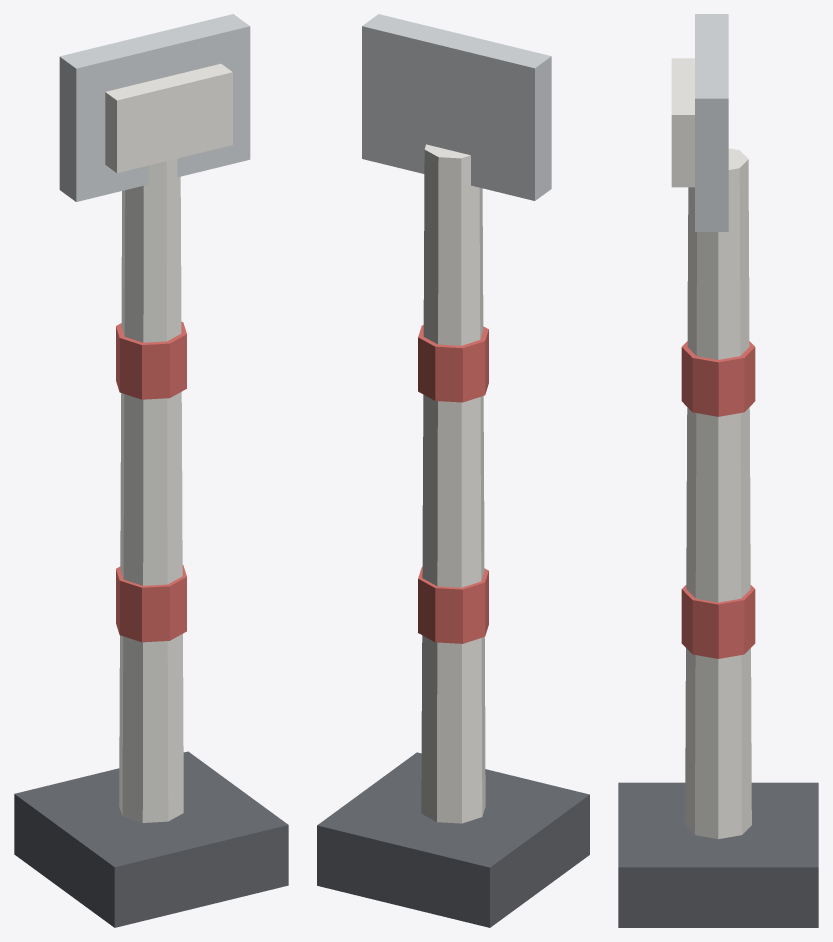
Rendered from hot-air-balloon-festival-launch-pitch-marker-post-78a5c157__38506.glb.
3 renders of one model, left to right at view 1: azimuth 30°, elevation 25°; view 2: azimuth 150°, elevation 25°; view 3: azimuth 270°, elevation 25°, orthographic.
Parts seen in each view (by area): view 1: launch-pitch-marker-post-canvasB, launch-pitch-marker-post-charcoal, launch-pitch-marker-post-steel, launch-pitch-marker-post-canvasA; view 2: launch-pitch-marker-post-canvasB, launch-pitch-marker-post-charcoal, launch-pitch-marker-post-steel, launch-pitch-marker-post-canvasA; view 3: launch-pitch-marker-post-canvasB, launch-pitch-marker-post-charcoal, launch-pitch-marker-post-canvasA, launch-pitch-marker-post-steel.
Part boxes in pixels (x1,y1,x2,y2): launch-pitch-marker-post-canvasB: (105, 63, 232, 822); launch-pitch-marker-post-charcoal: (14, 751, 288, 927); launch-pitch-marker-post-steel: (59, 14, 250, 201); launch-pitch-marker-post-canvasA: (116, 321, 186, 642); launch-pitch-marker-post-canvasB: (421, 144, 485, 823); launch-pitch-marker-post-charcoal: (317, 752, 589, 927); launch-pitch-marker-post-steel: (362, 14, 551, 200); launch-pitch-marker-post-canvasA: (418, 325, 488, 643); launch-pitch-marker-post-canvasB: (671, 58, 751, 839); launch-pitch-marker-post-charcoal: (618, 782, 818, 927); launch-pitch-marker-post-canvasA: (681, 341, 755, 658); launch-pitch-marker-post-steel: (695, 14, 728, 231).
Size of the model in its own units: 0.3 by 1.37 by 0.3.
